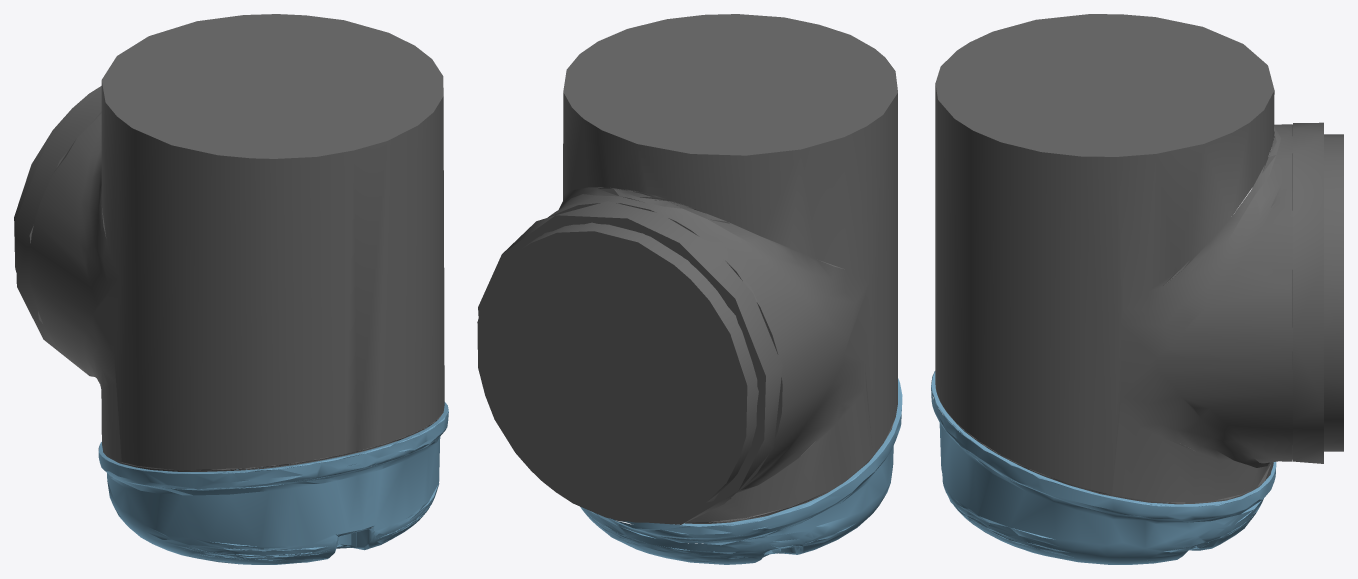
3 views of the same model, side by side, from view 1: azimuth 30°, elevation 25°; view 2: azimuth 150°, elevation 25°; view 3: azimuth 270°, elevation 25° (orthographic). The views are drawn at different scales.
Parts seen in each view (by area): view 1: /node2/Part__Feature029-mesh/0, /node0/Part__Feature031-mesh/0, /node1/Part__Feature030-mesh/0; view 2: /node2/Part__Feature029-mesh/0, /node0/Part__Feature031-mesh/0, /node1/Part__Feature030-mesh/0; view 3: /node2/Part__Feature029-mesh/0, /node0/Part__Feature031-mesh/0, /node1/Part__Feature030-mesh/0.
Part boxes in pixels (<box>): /node2/Part__Feature029-mesh/0: <box>14,14,444,471</box>; /node0/Part__Feature031-mesh/0: <box>98,402,448,564</box>; /node1/Part__Feature030-mesh/0: <box>15,88,101,376</box>; /node2/Part__Feature029-mesh/0: <box>477,14,897,523</box>; /node0/Part__Feature031-mesh/0: <box>580,378,902,564</box>; /node1/Part__Feature030-mesh/0: <box>478,201,782,524</box>; /node2/Part__Feature029-mesh/0: <box>935,14,1343,504</box>; /node0/Part__Feature031-mesh/0: <box>931,371,1276,564</box>; /node1/Part__Feature030-mesh/0: <box>1293,122,1323,463</box>.
Bounding box in the file's own units: 0.0644 × 0.0887 × 0.0768.
